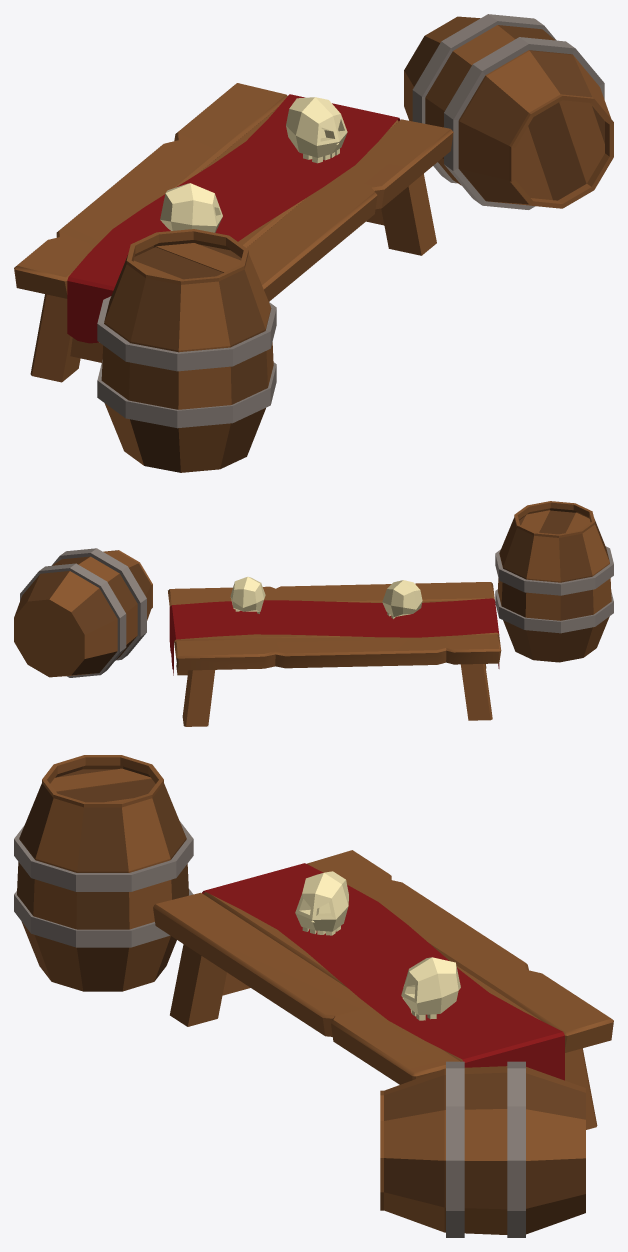
Rendered from decor5.fbx.
3 renders of one model, top to bottom at view 1: azimuth 30°, elevation 25°; view 2: azimuth 150°, elevation 25°; view 3: azimuth 270°, elevation 25°, orthographic. The views are drawn at different scales.
Visible parts, largest first — view 1: Cylinder.021, Cylinder.018, Cylinder.011, Cylinder.025, Cylinder.022; view 2: Cylinder.021, Cylinder.018, Cylinder.011, Cylinder.022, Cylinder.025; view 3: Cylinder.021, Cylinder.018, Cylinder.011, Cylinder.025, Cylinder.022.
Part boxes in pixels (x1,y1,x2,y2): Cylinder.021: (14, 83, 453, 382); Cylinder.018: (97, 229, 276, 472); Cylinder.011: (404, 14, 613, 209); Cylinder.025: (286, 97, 347, 163); Cylinder.022: (160, 183, 222, 232); Cylinder.021: (168, 582, 501, 726); Cylinder.018: (495, 501, 613, 662); Cylinder.011: (14, 548, 152, 677); Cylinder.022: (382, 580, 422, 618); Cylinder.025: (230, 576, 265, 613); Cylinder.021: (153, 850, 613, 1129); Cylinder.018: (14, 755, 193, 991); Cylinder.011: (380, 1061, 585, 1237); Cylinder.025: (401, 957, 460, 1020); Cylinder.022: (295, 871, 348, 935).
Bounding box in the file's own units: 1183 × 354 × 940.
